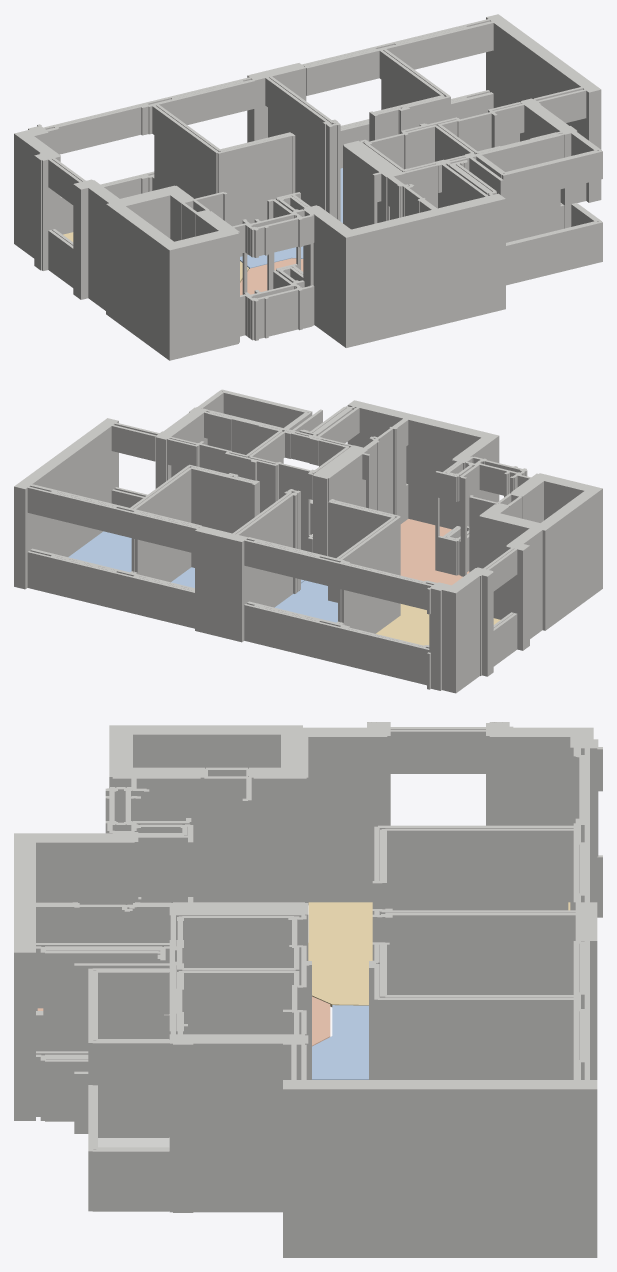
3 views of the same model, one above another, from view 1: azimuth 30°, elevation 25°; view 2: azimuth 150°, elevation 25°; view 3: azimuth 270°, elevation 25° (orthographic). The views are drawn at different scales.
Visible parts, largest first — view 1: walls, room:kitchen:4, room:bedroom:1; view 2: walls, room:kitchen:4, room:bedroom:3, room:bedroom:1, room:living:0; view 3: walls, room:living:0, room:bedroom:1, room:kitchen:4, room:ledge:5.
Part boxes in pixels (bbox=[...]): walls: bbox=[14, 14, 602, 360]; room:kitchen:4: bbox=[240, 258, 303, 295]; room:bedroom:1: bbox=[240, 246, 303, 268]; walls: bbox=[14, 389, 602, 693]; room:kitchen:4: bbox=[400, 519, 469, 585]; room:bedroom:3: bbox=[68, 531, 131, 572]; room:bedroom:1: bbox=[275, 580, 337, 622]; room:living:0: bbox=[376, 604, 500, 645]; walls: bbox=[14, 722, 602, 1257]; room:living:0: bbox=[308, 902, 570, 1006]; room:bedroom:1: bbox=[312, 1005, 368, 1079]; room:kitchen:4: bbox=[37, 996, 330, 1046]; room:ledge:5: bbox=[98, 1137, 169, 1147].
Size of the model in its own units: 13.09 by 2.8 by 8.87.
